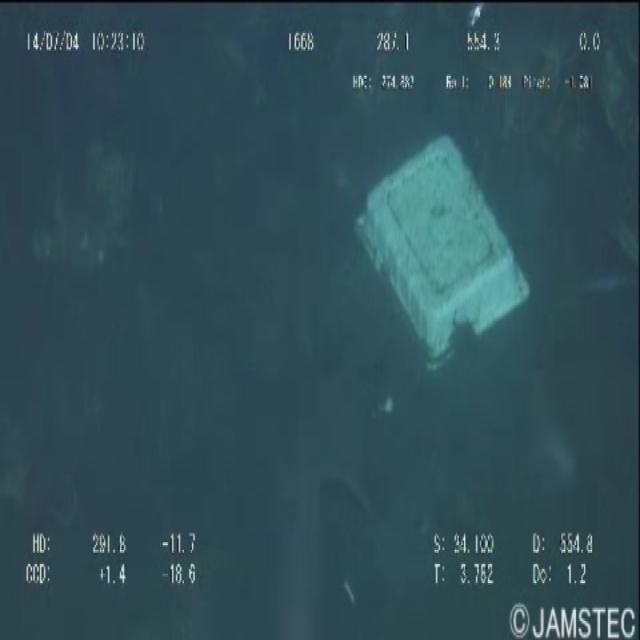Cutlery: (353, 104, 537, 402)
